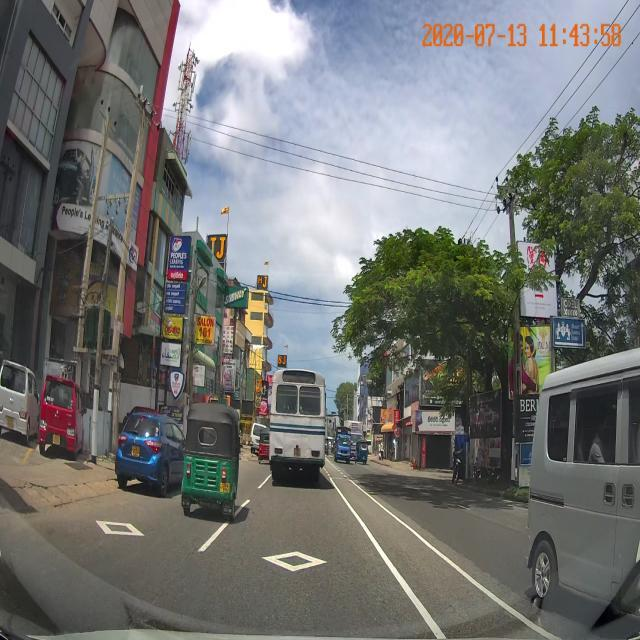diamond: (182, 535, 415, 595)
